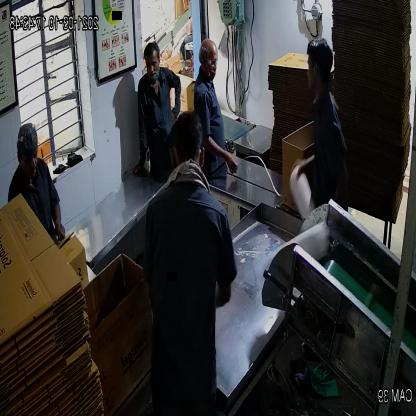no_glove: (197, 130, 247, 180), (126, 104, 150, 190), (50, 183, 66, 248)
